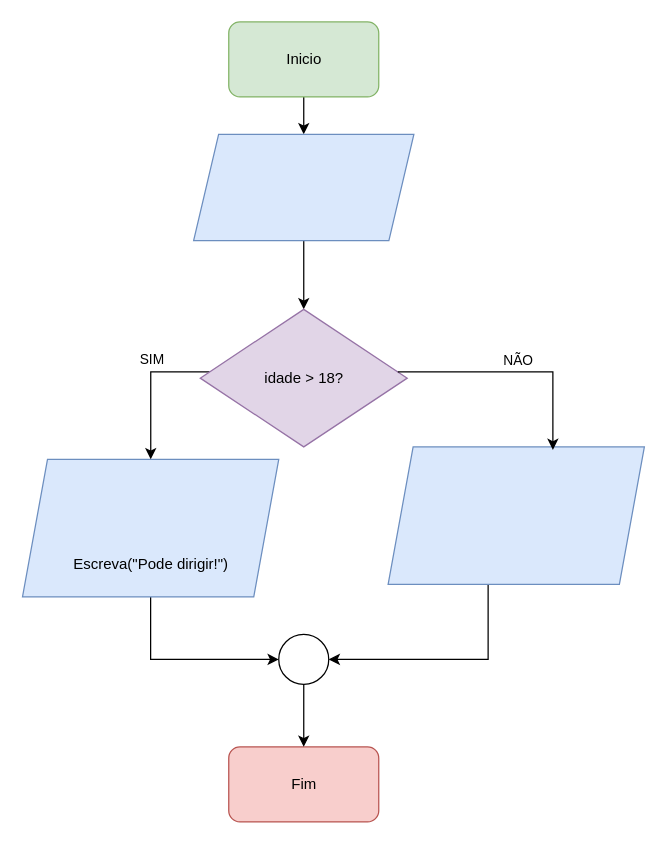
This 666x844 diagram has some shape labels left out. Here are the shapes that lost their labels. From the top down, the centre of each, then its label:
point (303, 187): Leia(idade)
point (515, 515): Escreva("Não pode dirigir!")
